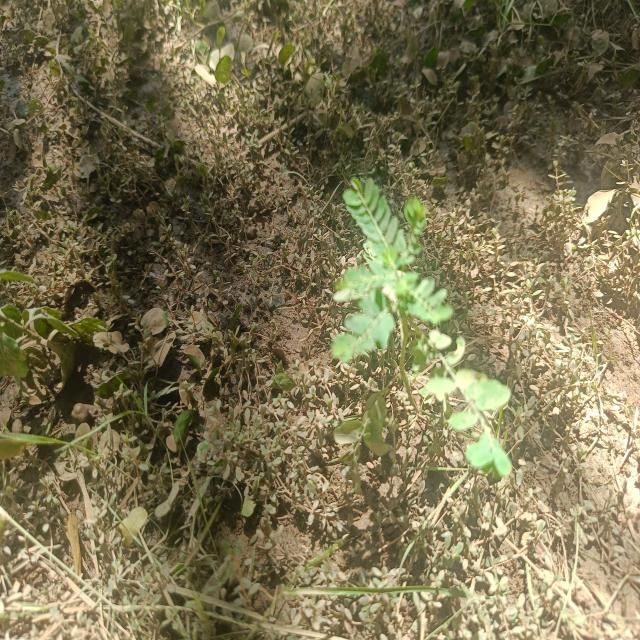weed: (326, 169, 519, 492), (322, 381, 403, 465)
